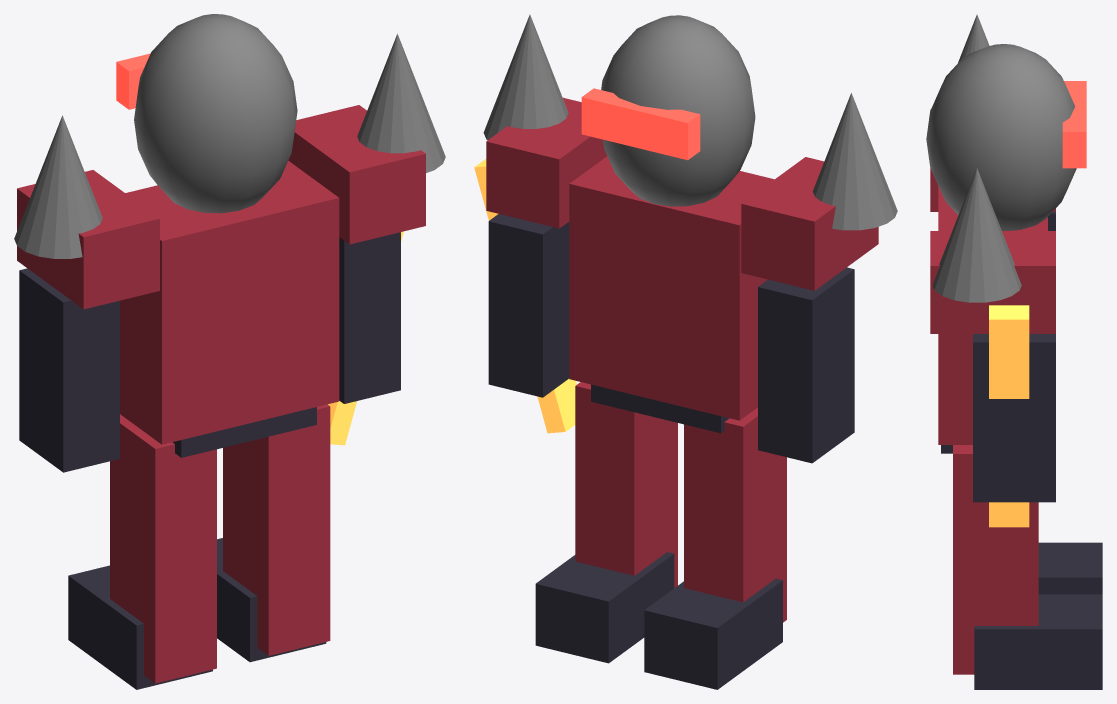
The model's file is temporal_marauder.glb.
3 views of the same model, side by side, from view 1: azimuth 30°, elevation 25°; view 2: azimuth 150°, elevation 25°; view 3: azimuth 270°, elevation 25° (orthographic). The views are drawn at different scales.
Visible parts, largest first — view 1: temporal marauder chest, marauder bone mask, marauder leg -1, marauder leg 1, marauder left right arm -1, spiked shoulder 1, spiked shoulder -1, marauder left right arm 1, shoulder spike -1, metal combat boot -1, shoulder spike 1, metal combat boot 1 (+3 smaller); view 2: temporal marauder chest, marauder bone mask, marauder leg -1, marauder left right arm -1, marauder leg 1, marauder left right arm 1, metal combat boot -1, spiked shoulder -1, metal combat boot 1, spiked shoulder 1, shoulder spike -1, face glowing slit (+3 smaller); view 3: marauder bone mask, marauder leg 1, marauder left right arm 1, metal combat boot 1, spiked shoulder 1, shoulder spike 1, hostile plasma blade, temporal marauder chest, metal combat boot -1, face glowing slit, shoulder spike -1, spiked shoulder -1.
Boxes of the visible parts, x1,y1,x2,y2 form: temporal marauder chest: (120, 161, 339, 444); marauder bone mask: (134, 14, 297, 213); marauder leg -1: (110, 414, 216, 683); marauder leg 1: (223, 404, 330, 655); marauder left right arm -1: (19, 268, 119, 472); spiked shoulder 1: (288, 105, 425, 244); spiked shoulder -1: (17, 170, 159, 309); marauder left right arm 1: (339, 232, 400, 403); shoulder spike -1: (14, 115, 102, 258); metal combat boot -1: (68, 565, 212, 689); shoulder spike 1: (357, 33, 445, 172); metal combat boot 1: (217, 538, 326, 662); temporal marauder chest: (569, 156, 774, 420); marauder bone mask: (601, 15, 755, 206); marauder leg -1: (684, 407, 786, 622); marauder left right arm -1: (758, 267, 854, 463); marauder leg 1: (575, 382, 677, 587); marauder left right arm 1: (488, 214, 569, 397); metal combat boot -1: (644, 578, 782, 689); spiked shoulder -1: (741, 157, 878, 290); metal combat boot 1: (535, 552, 674, 663); spiked shoulder 1: (486, 97, 606, 228); shoulder spike -1: (812, 93, 897, 230); face glowing slit: (581, 88, 700, 160); marauder bone mask: (926, 44, 1076, 230); marauder leg 1: (953, 445, 1038, 674); marauder left right arm 1: (973, 334, 1055, 502); metal combat boot 1: (974, 594, 1102, 689); spiked shoulder 1: (930, 231, 1055, 333); shoulder spike 1: (932, 168, 1021, 302); hostile plasma blade: (989, 305, 1029, 527); temporal marauder chest: (938, 186, 1047, 444); metal combat boot -1: (1038, 542, 1102, 594); face glowing slit: (1062, 81, 1086, 168); shoulder spike -1: (958, 14, 989, 62); spiked shoulder -1: (930, 109, 1055, 211).
Bounding box in the file's own units: 1.69 × 2.46 × 0.66.
